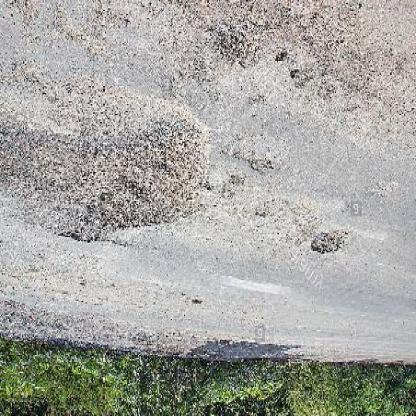pothole: (56, 105, 209, 248), (309, 229, 351, 261), (287, 70, 315, 91), (247, 159, 276, 176), (273, 51, 290, 65), (191, 298, 204, 309)
